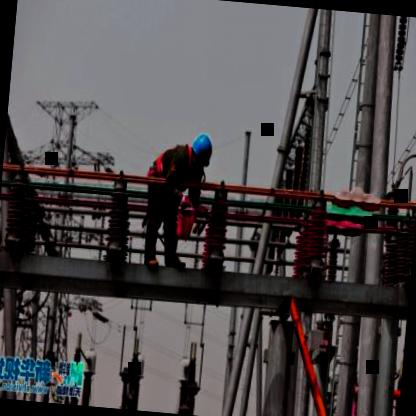helmet: (186, 129, 215, 174)
